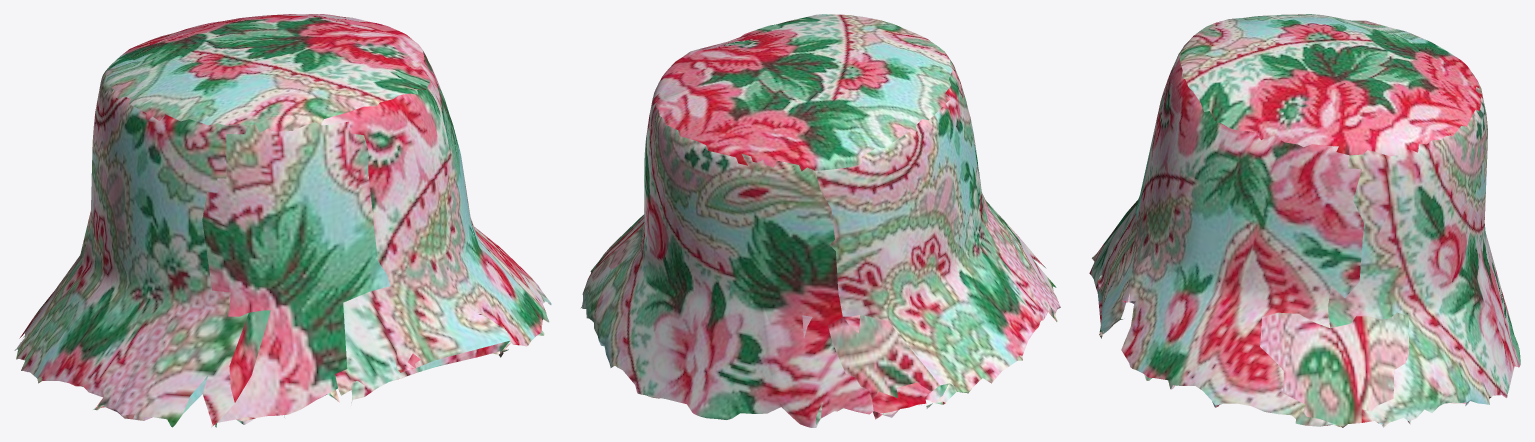
Rendered from Hatt.fbx.
3 renders of one model, left to right at view 1: azimuth 30°, elevation 25°; view 2: azimuth 150°, elevation 25°; view 3: azimuth 270°, elevation 25°, orthographic. The views are drawn at different scales.
Parts seen in each view (by area): view 1: Object; view 2: Object; view 3: Object.
Boxes of the visible parts, left/top/right/bottom form: Object: left=14, top=14, right=551, bottom=427; Object: left=580, top=14, right=1060, bottom=427; Object: left=1089, top=14, right=1520, bottom=427.
Size of the model in its own units: 19.71 by 12.97 by 16.71.
